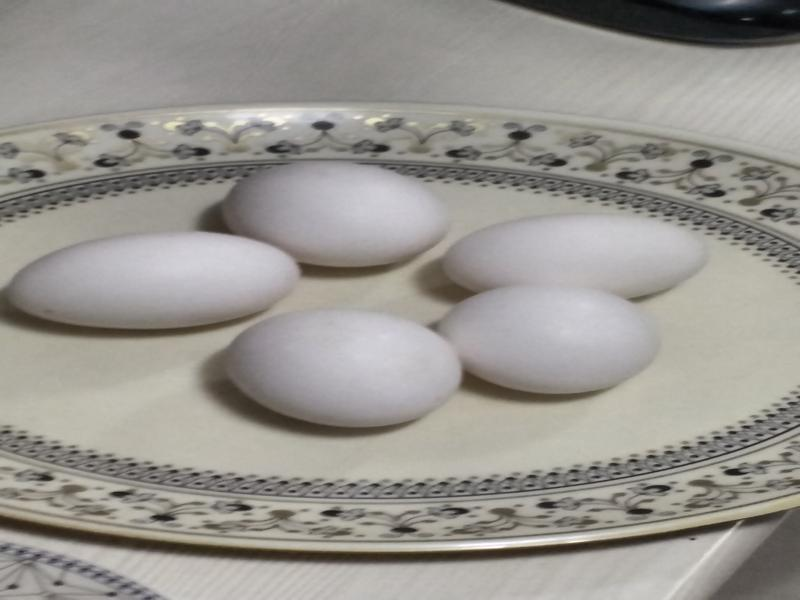egg: (438, 285, 666, 396)
